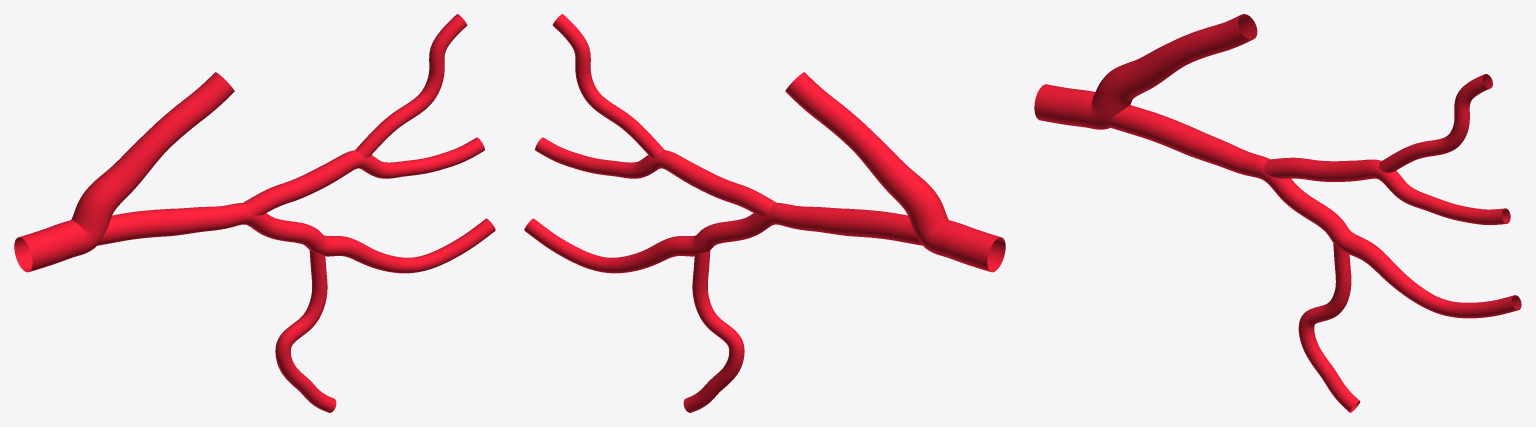
The model's file is vessel.obj.
3 renders of one model, left to right at view 1: azimuth 30°, elevation 25°; view 2: azimuth 150°, elevation 25°; view 3: azimuth 330°, elevation 25°, orthographic.
Visible parts, largest first — view 1: grp19761, grp1, grp8041, grp16121, grp12881; view 2: grp19761, grp1, grp8041, grp16121, grp12881; view 3: grp1, grp19761, grp8041, grp16121, grp12881.
Boxes of the visible parts, bbox=[...] form: grp19761: bbox=[14, 72, 234, 272]; grp1: bbox=[97, 203, 495, 273]; grp8041: bbox=[244, 137, 484, 215]; grp16121: bbox=[275, 250, 336, 412]; grp12881: bbox=[355, 14, 467, 157]; grp19761: bbox=[785, 72, 1005, 272]; grp1: bbox=[524, 203, 919, 273]; grp8041: bbox=[535, 137, 775, 215]; grp16121: bbox=[683, 250, 744, 412]; grp12881: bbox=[552, 14, 664, 157]; grp1: bbox=[1110, 105, 1521, 318]; grp19761: bbox=[1034, 14, 1257, 129]; grp8041: bbox=[1264, 157, 1510, 224]; grp16121: bbox=[1298, 243, 1360, 412]; grp12881: bbox=[1379, 74, 1492, 172].
Size of the model in its own units: 594 by 441 by 40.
